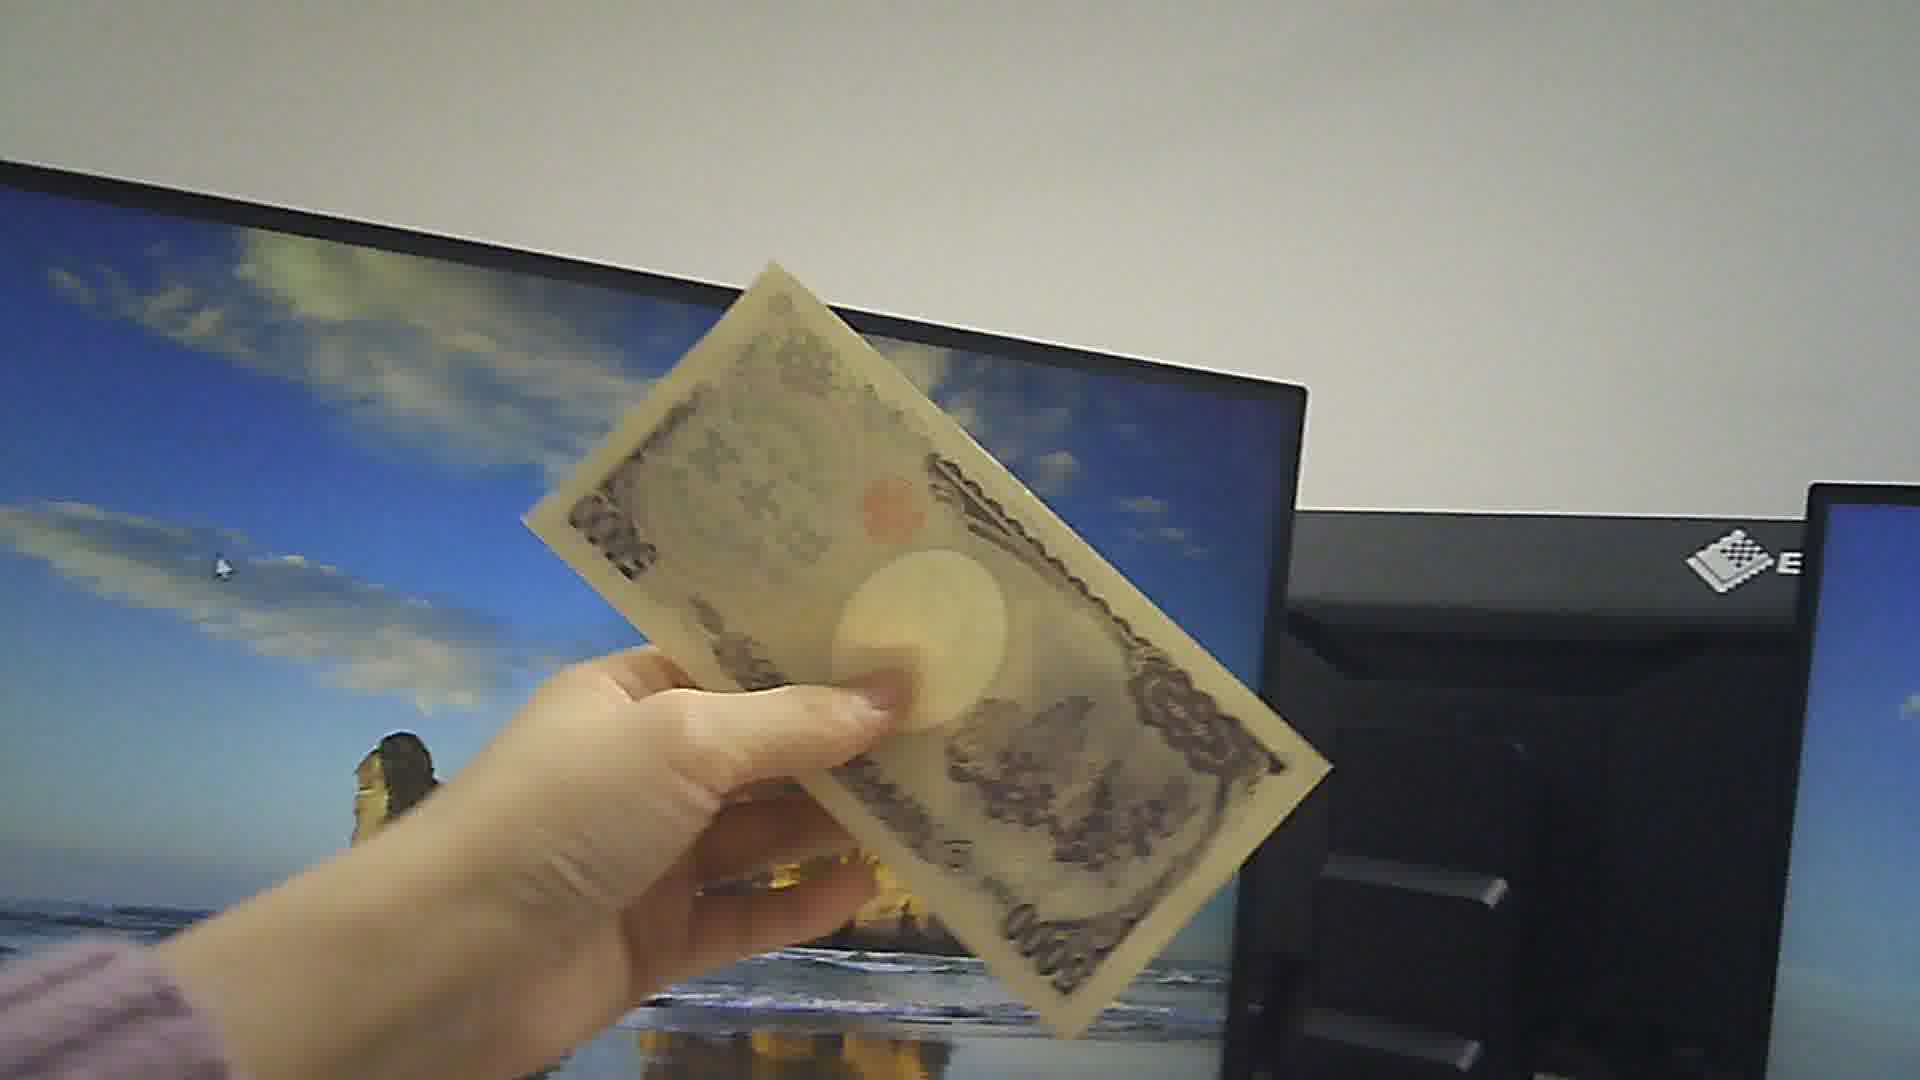5,000 Yen: (502, 257, 1365, 1015)
